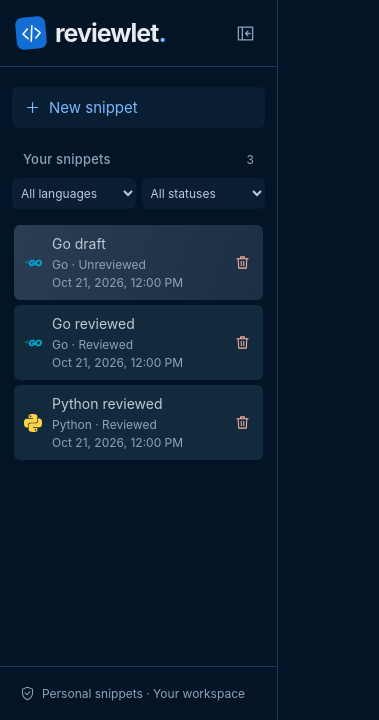
Scenario: combines filters and clears them without selecting another snippet
Expected: the text "Go · Unreviewed" is shown, left=52, top=257, right=146, bottom=272
Expected: the text "Go · Reviewed" is shown, left=52, top=337, right=133, bottom=352
Select "Go" in the dropdown named "Filter by language" at point(74, 194), box left=12, top=178, right=136, bottom=209
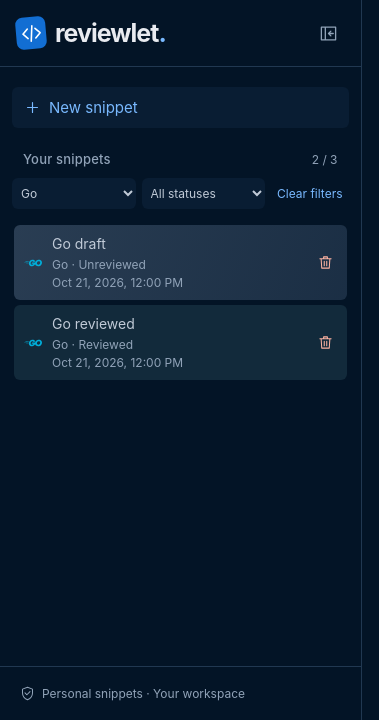
Select "Reviewed" in the dropdown named "Filter by review status" at point(203, 194), box left=142, top=178, right=265, bottom=209
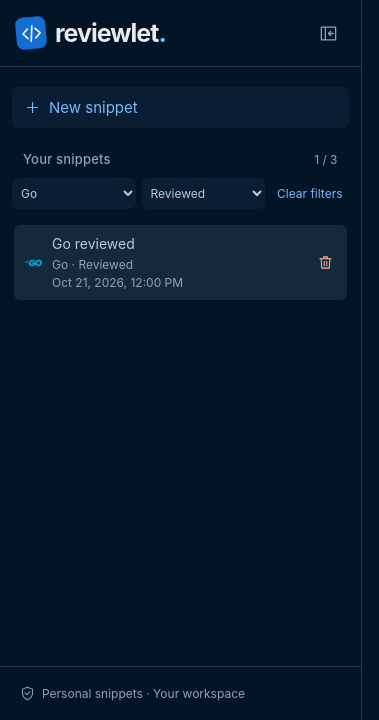
Expected: the button "Go reviewed" is shown, left=14, top=225, right=346, bottom=300
Expected: the button "Go draft" is gone
Select "Review failed" in the dropdown named "Filter by review status" at point(203, 194), box left=142, top=178, right=265, bottom=209
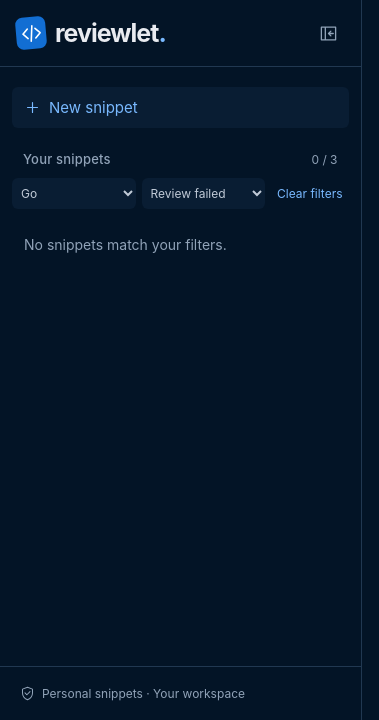
Expected: the text "No snippets match your filters." is shown, left=24, top=236, right=227, bottom=253
Click the button "Clear filters" at point(310, 194), box left=271, top=178, right=348, bottom=209
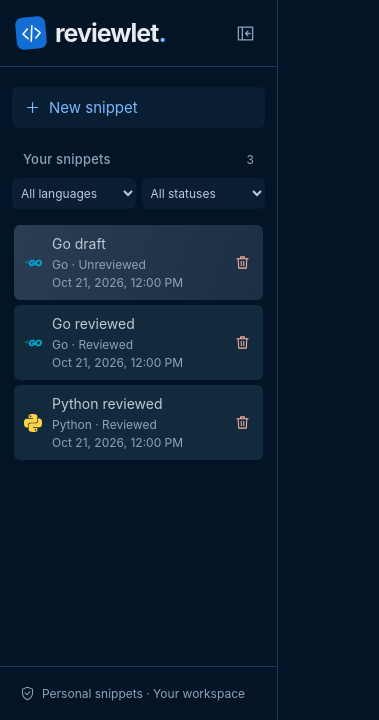
Expected: the button "Python reviewed" is shown, left=14, top=385, right=263, bottom=460
